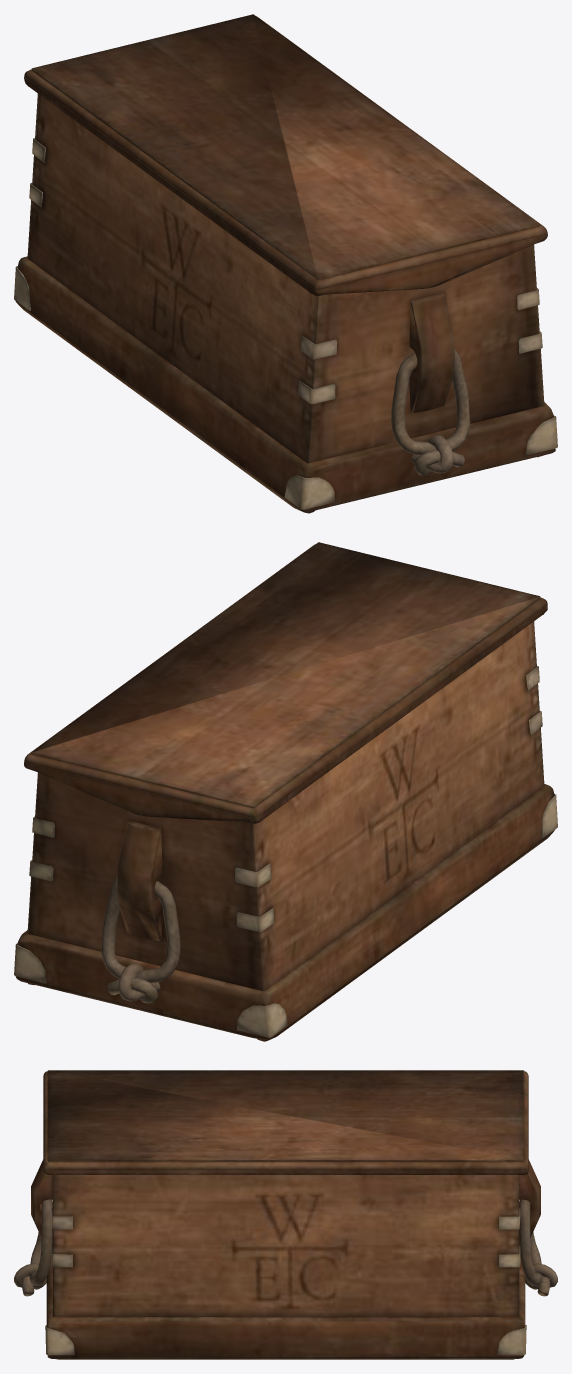
Rendered from wooden_crate_02.glb.
The picture shows the model from 3 angles, top to bottom: view 1: azimuth 30°, elevation 25°; view 2: azimuth 150°, elevation 25°; view 3: azimuth 270°, elevation 25°; orthographic projection. The views are drawn at different scales.
Visible parts, largest first — view 1: wooden_crate_02_crate, wooden_crate_02_lid; view 2: wooden_crate_02_crate, wooden_crate_02_lid; view 3: wooden_crate_02_crate, wooden_crate_02_lid.
Boxes of the visible parts, left/top/right/bottom form: wooden_crate_02_crate: left=14, top=93, right=557, bottom=513; wooden_crate_02_lid: left=24, top=14, right=547, bottom=296; wooden_crate_02_crate: left=14, top=621, right=557, bottom=1041; wooden_crate_02_lid: left=24, top=542, right=547, bottom=823; wooden_crate_02_crate: left=14, top=1159, right=557, bottom=1359; wooden_crate_02_lid: left=43, top=1070, right=528, bottom=1174.
Size of the model in its own units: 0.5291 by 0.464 by 1.17.
1 material, 1 textured.
